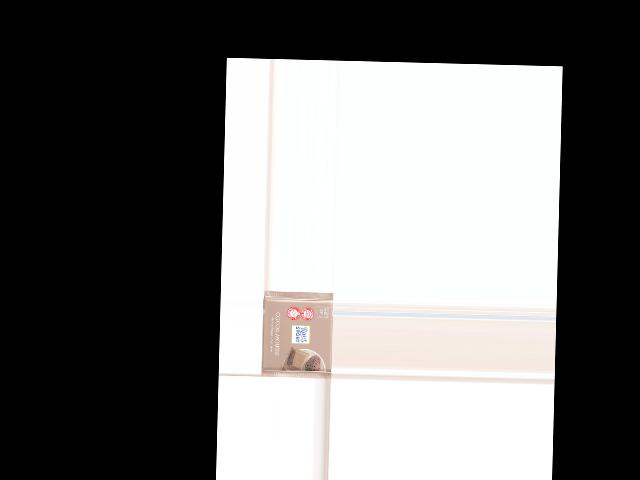chocolate: (260, 292, 333, 378)
